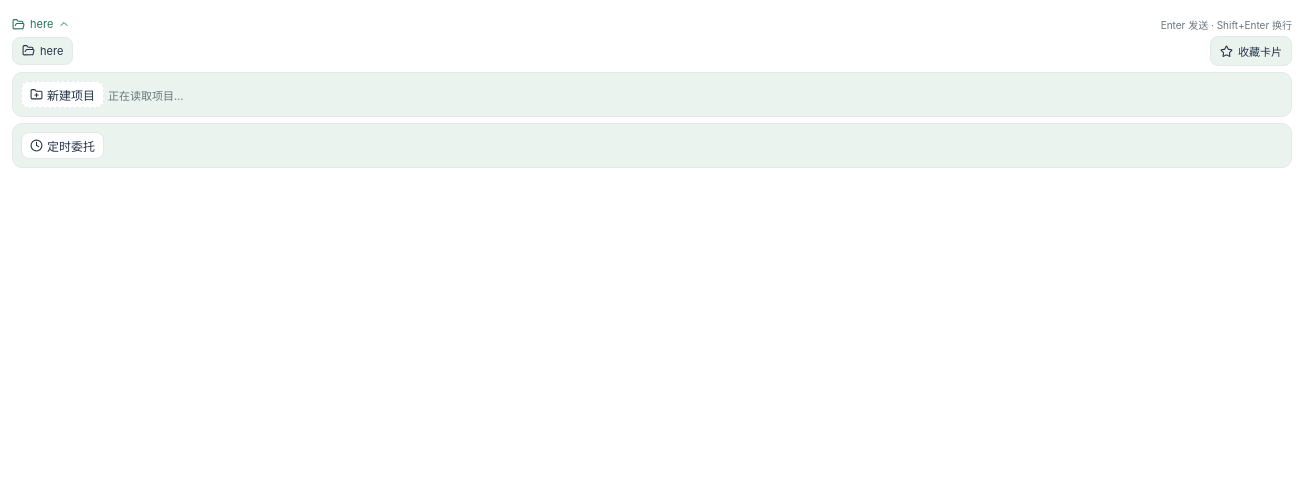
Test: 定时委托（doc 18 §9） › creates a scheduled delegation from the lightweight form with the picked project
Click the button "定时委托" at (62, 146), box [21,132,104,159]
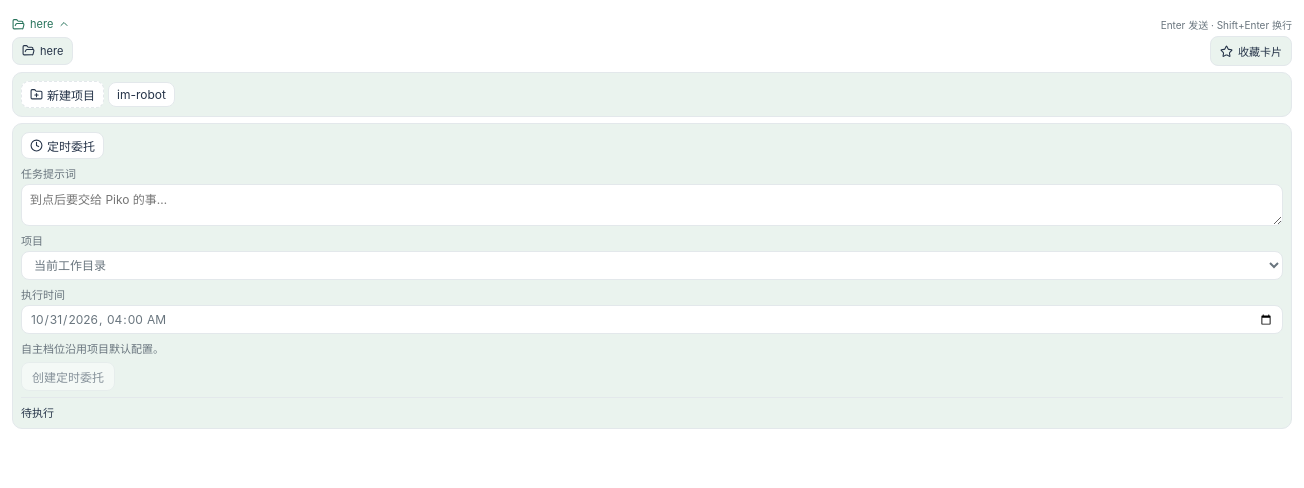
Type "每晚整理构建日志" into the text box labelled "任务提示词" at (652, 205), box [21,184,1283,226]
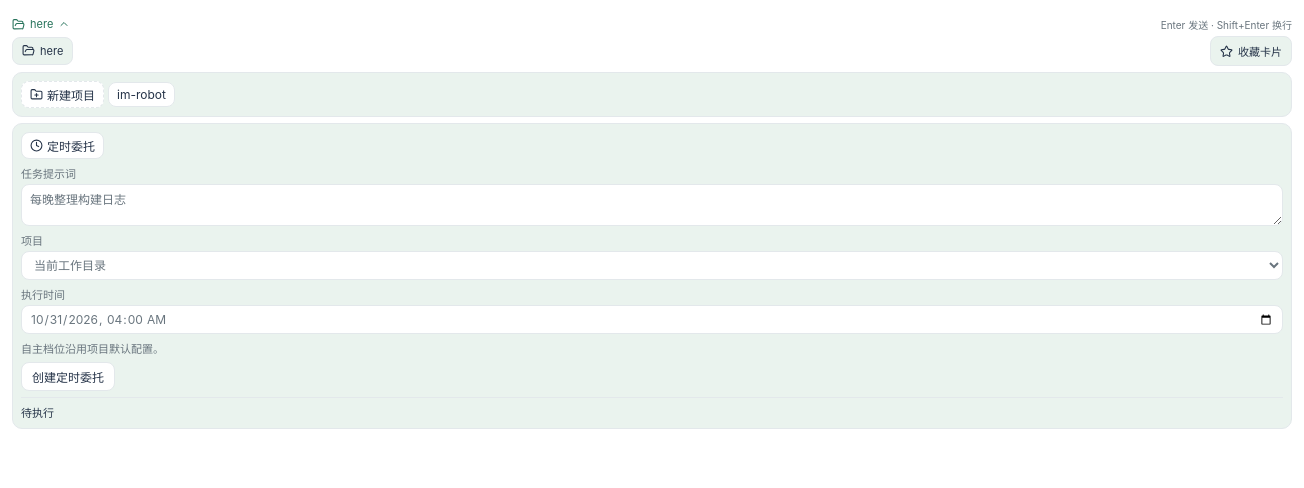
Select "im-robot" in the dropdown labelled "项目" at (652, 266), box [21,251,1283,280]
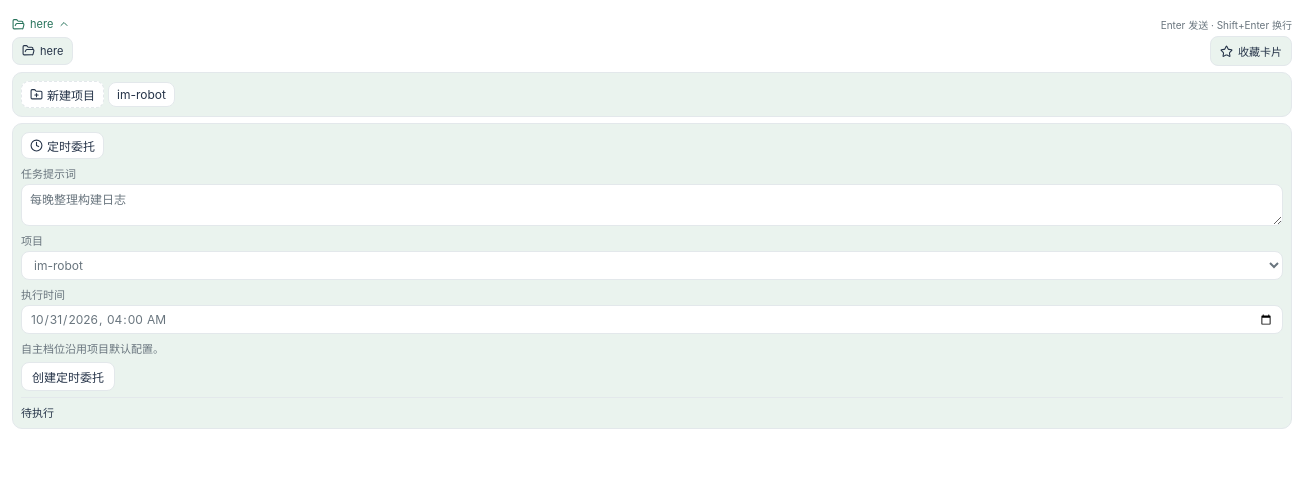
Replace the text in the field labelled "执行时间" with "2030-01-01T09:00" at (652, 320), box [21,305,1283,334]
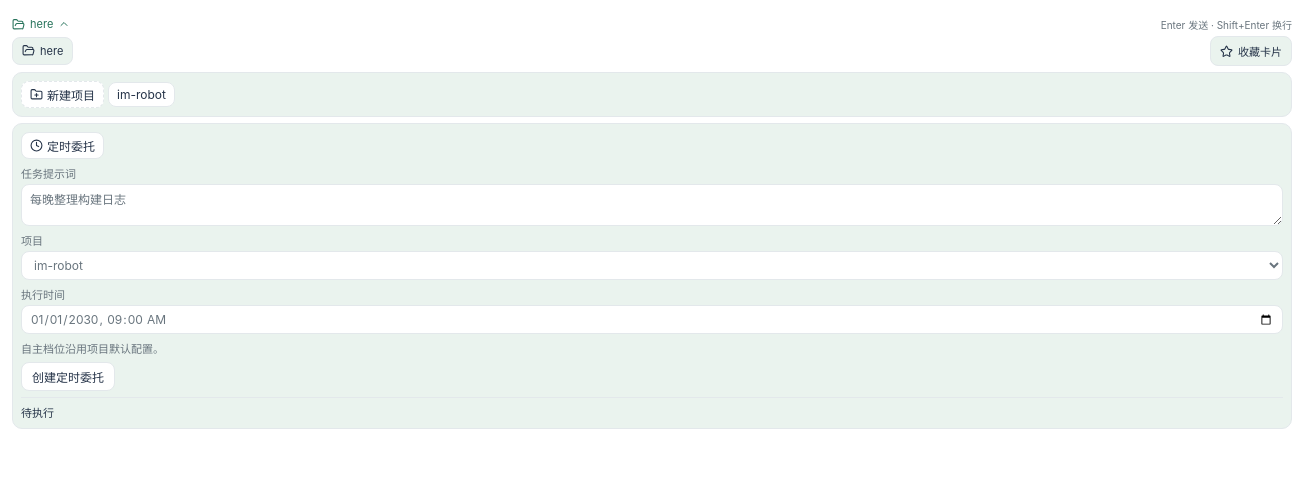
Click the button "创建定时委托" at (68, 376), box [21,362,115,391]
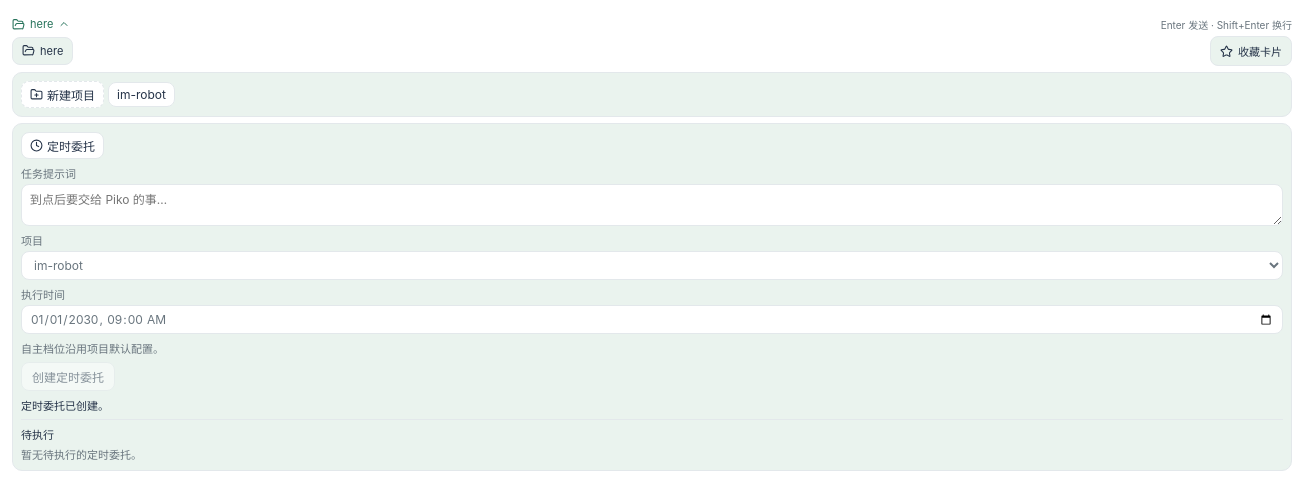
Result: the text "定时委托已创建。" is shown at [21,399,109,413]
